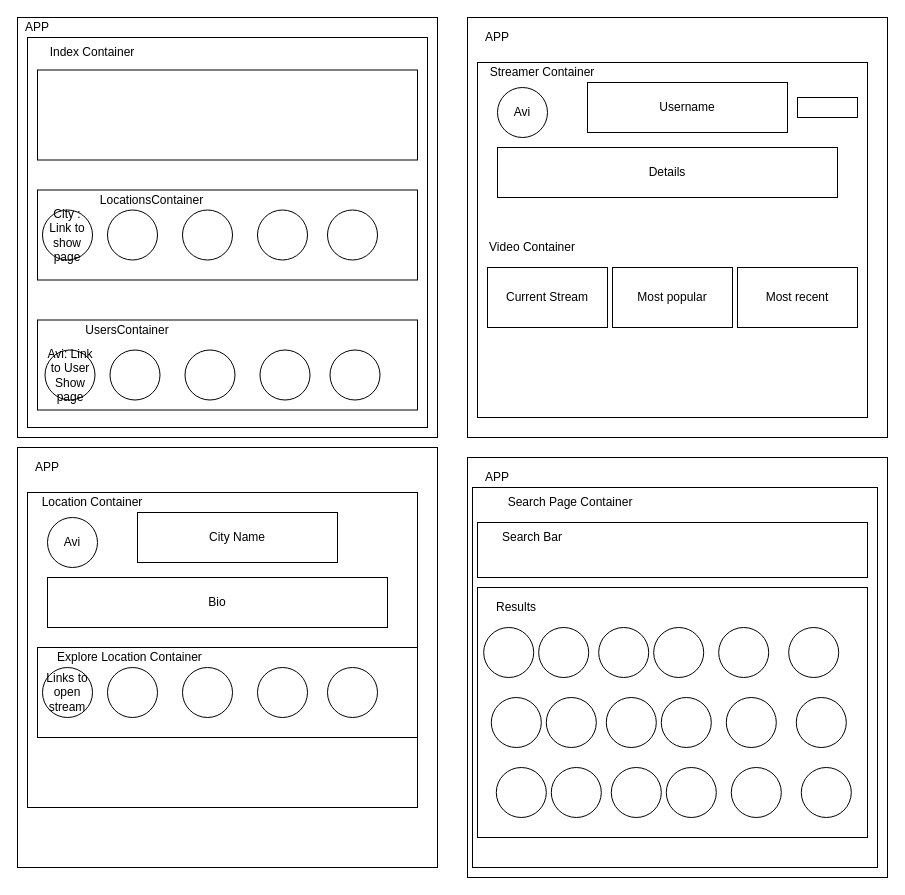
Some shapes in this 905 by 895 pixel diagram are drawn without their labels. The shapes that lost their labels are listed below. From the top down, each one's centre as x and y in pixels, then its label:
At (x=227, y=114): "Phenomenon Search: Link to search page".
At (x=827, y=107): "Follow".
